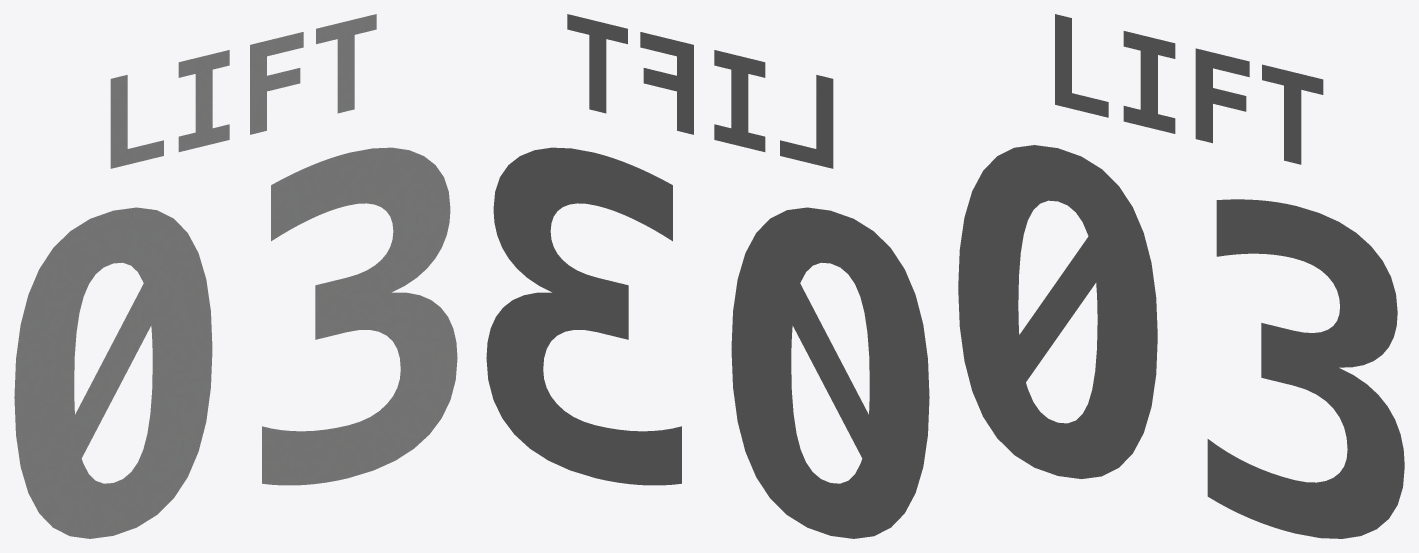
Rendered from Lift_03_Label_02.fbx.
The picture shows the model from 3 angles, left to right: view 1: azimuth 30°, elevation 25°; view 2: azimuth 150°, elevation 25°; view 3: azimuth 330°, elevation 25°; orthographic projection.
Visible parts, largest first — view 1: Lift_03_Label_02; view 2: Lift_03_Label_02; view 3: Lift_03_Label_02.
Boxes of the visible parts, left/top/right/bottom form: Lift_03_Label_02: left=14, top=14, right=457, bottom=538; Lift_03_Label_02: left=486, top=14, right=929, bottom=538; Lift_03_Label_02: left=958, top=14, right=1404, bottom=538.
Bounding box in the file's own units: 619 × 611 × 0.000122.
